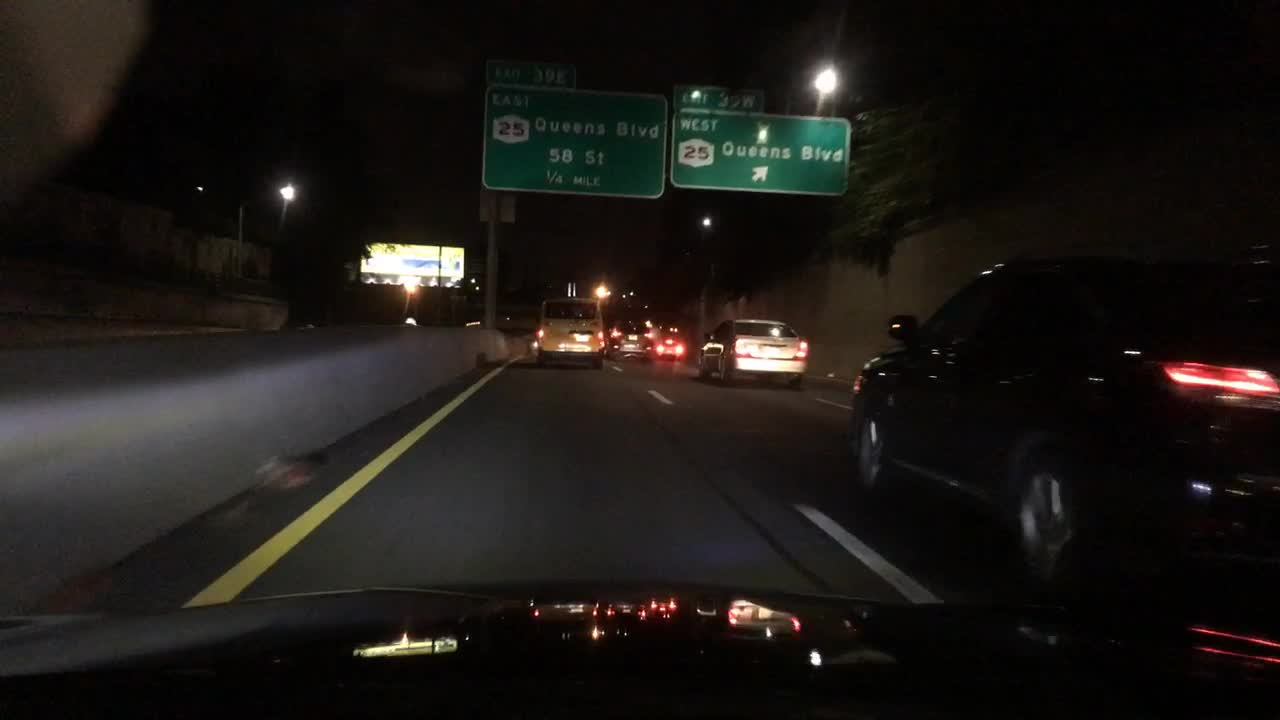car: (848, 249, 1275, 586), (696, 317, 811, 390), (532, 295, 606, 370), (609, 317, 657, 359), (652, 337, 686, 359)
traffic sign: (481, 88, 666, 199), (668, 110, 853, 198), (674, 83, 763, 112), (481, 61, 578, 83), (479, 187, 516, 226)
